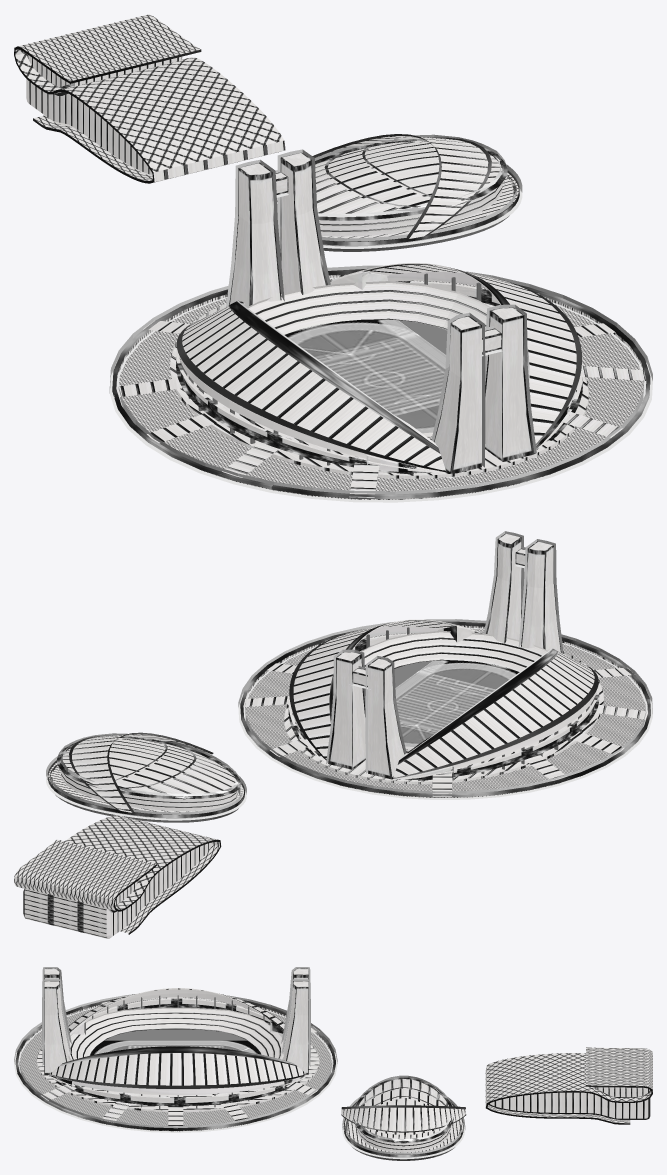
The model's file is SM_HuangLong_Building111.glb.
The picture shows the model from 3 angles, top to bottom: view 1: azimuth 30°, elevation 25°; view 2: azimuth 150°, elevation 25°; view 3: azimuth 270°, elevation 25°; orthographic projection. The views are drawn at different scales.
Visible parts, largest first — view 1: SM_huanglong.001, SM_huanglong1, SM_huanglong.002, SM_huanglong2.001, SM_huanglong2, SM_huanglong.003; view 2: SM_huanglong.001, SM_huanglong.002, SM_huanglong1, SM_huanglong2.001, SM_huanglong2, SM_huanglong.003; view 3: SM_huanglong.001, SM_huanglong.002, SM_huanglong1, SM_huanglong2.001, SM_huanglong2, SM_huanglong.003.
Part boxes in pixels (<box>): SM_huanglong.001: <box>109,149,652,502</box>; SM_huanglong1: <box>14,14,285,183</box>; SM_huanglong.002: <box>176,263,581,471</box>; SM_huanglong2.001: <box>277,134,502,238</box>; SM_huanglong2: <box>277,134,522,251</box>; SM_huanglong.003: <box>114,293,646,497</box>; SM_huanglong.001: <box>238,531,652,799</box>; SM_huanglong.002: <box>289,619,598,778</box>; SM_huanglong1: <box>14,815,221,938</box>; SM_huanglong2.001: <box>62,732,236,812</box>; SM_huanglong2: <box>46,733,246,822</box>; SM_huanglong.003: <box>243,639,649,796</box>; SM_huanglong.001: <box>14,967,337,1132</box>; SM_huanglong.002: <box>49,988,306,1094</box>; SM_huanglong1: <box>485,1047,652,1124</box>; SM_huanglong2.001: <box>341,1079,466,1140</box>; SM_huanglong2: <box>342,1075,465,1160</box>; SM_huanglong.003: <box>38,997,319,1126</box>.
Size of the model in its own units: 364 by 106 by 611.
Materials: 3 (2 with a texture image).
